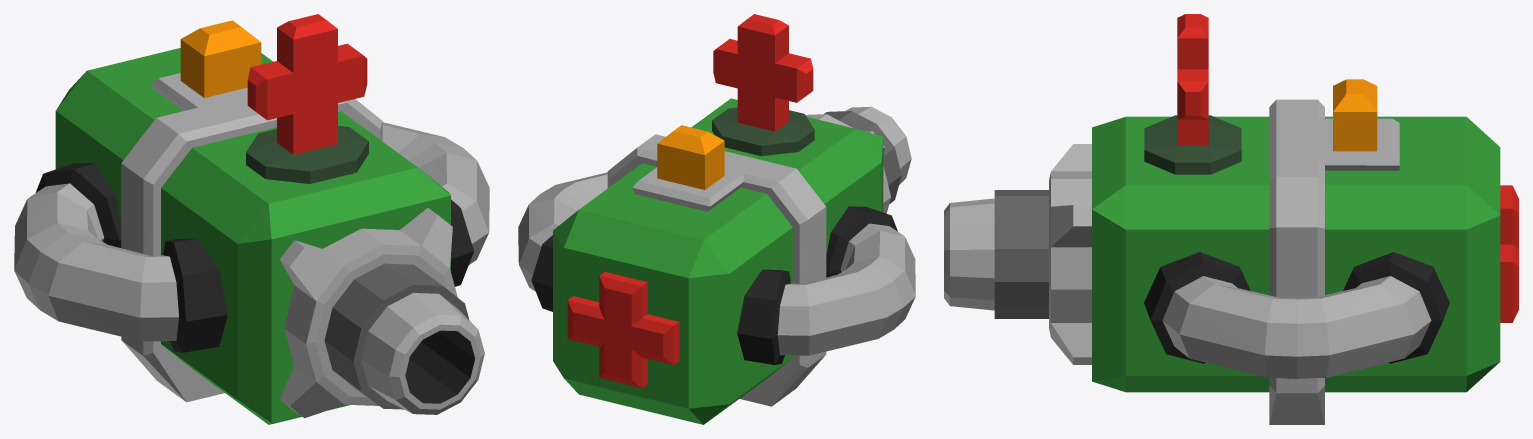
File: health_cannon.fbx
3 renders of one model, left to right at view 1: azimuth 30°, elevation 25°; view 2: azimuth 150°, elevation 25°; view 3: azimuth 270°, elevation 25°, orthographic. The views are drawn at different scales.
Visible parts, largest first — view 1: Cube.068, Cylinder.037, Cube.069; view 2: Cube.068, Cube.069, Cylinder.037; view 3: Cube.068, Cylinder.037, Cube.069.
Part boxes in pixels (x1,y1,x2,y2): Cube.068: [14, 20, 489, 424]; Cylinder.037: [280, 208, 484, 418]; Cube.069: [246, 14, 368, 183]; Cube.068: [518, 98, 915, 424]; Cube.069: [712, 14, 814, 156]; Cylinder.037: [805, 106, 911, 213]; Cube.068: [1092, 79, 1518, 424]; Cylinder.037: [944, 144, 1091, 364]; Cube.069: [1144, 14, 1241, 174].
Size of the model in its own units: 120 by 101 by 143.
